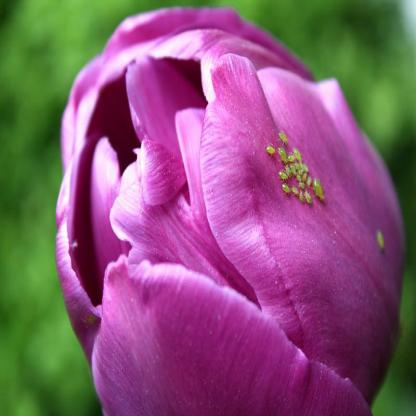aphid: (375, 229, 390, 255), (314, 175, 326, 203), (278, 128, 290, 144), (278, 148, 287, 164), (265, 144, 276, 156), (281, 182, 291, 195), (284, 166, 294, 179), (294, 146, 302, 162), (304, 191, 314, 203), (278, 170, 289, 180), (291, 186, 300, 197), (290, 164, 298, 176), (302, 164, 311, 174), (299, 191, 306, 203), (287, 153, 296, 161), (298, 181, 306, 190), (306, 175, 312, 186), (296, 173, 302, 182), (298, 163, 304, 169)
